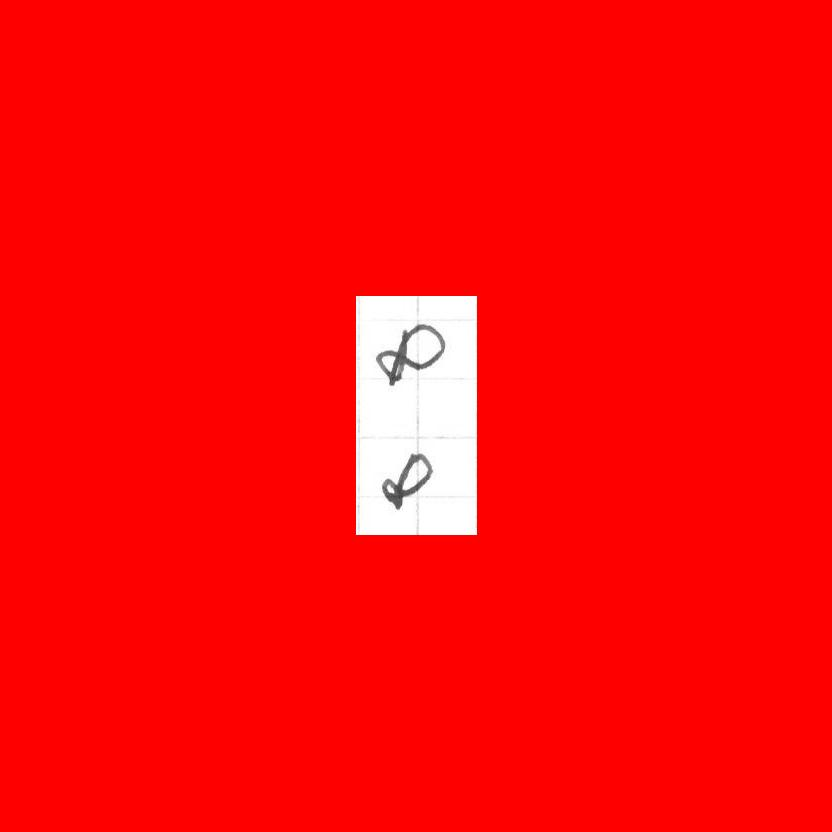Char: (374, 320, 447, 386), (380, 450, 434, 512)
